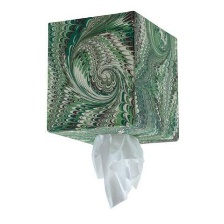plastic_box: (38, 6, 185, 151)
tissue: (86, 129, 149, 213)
